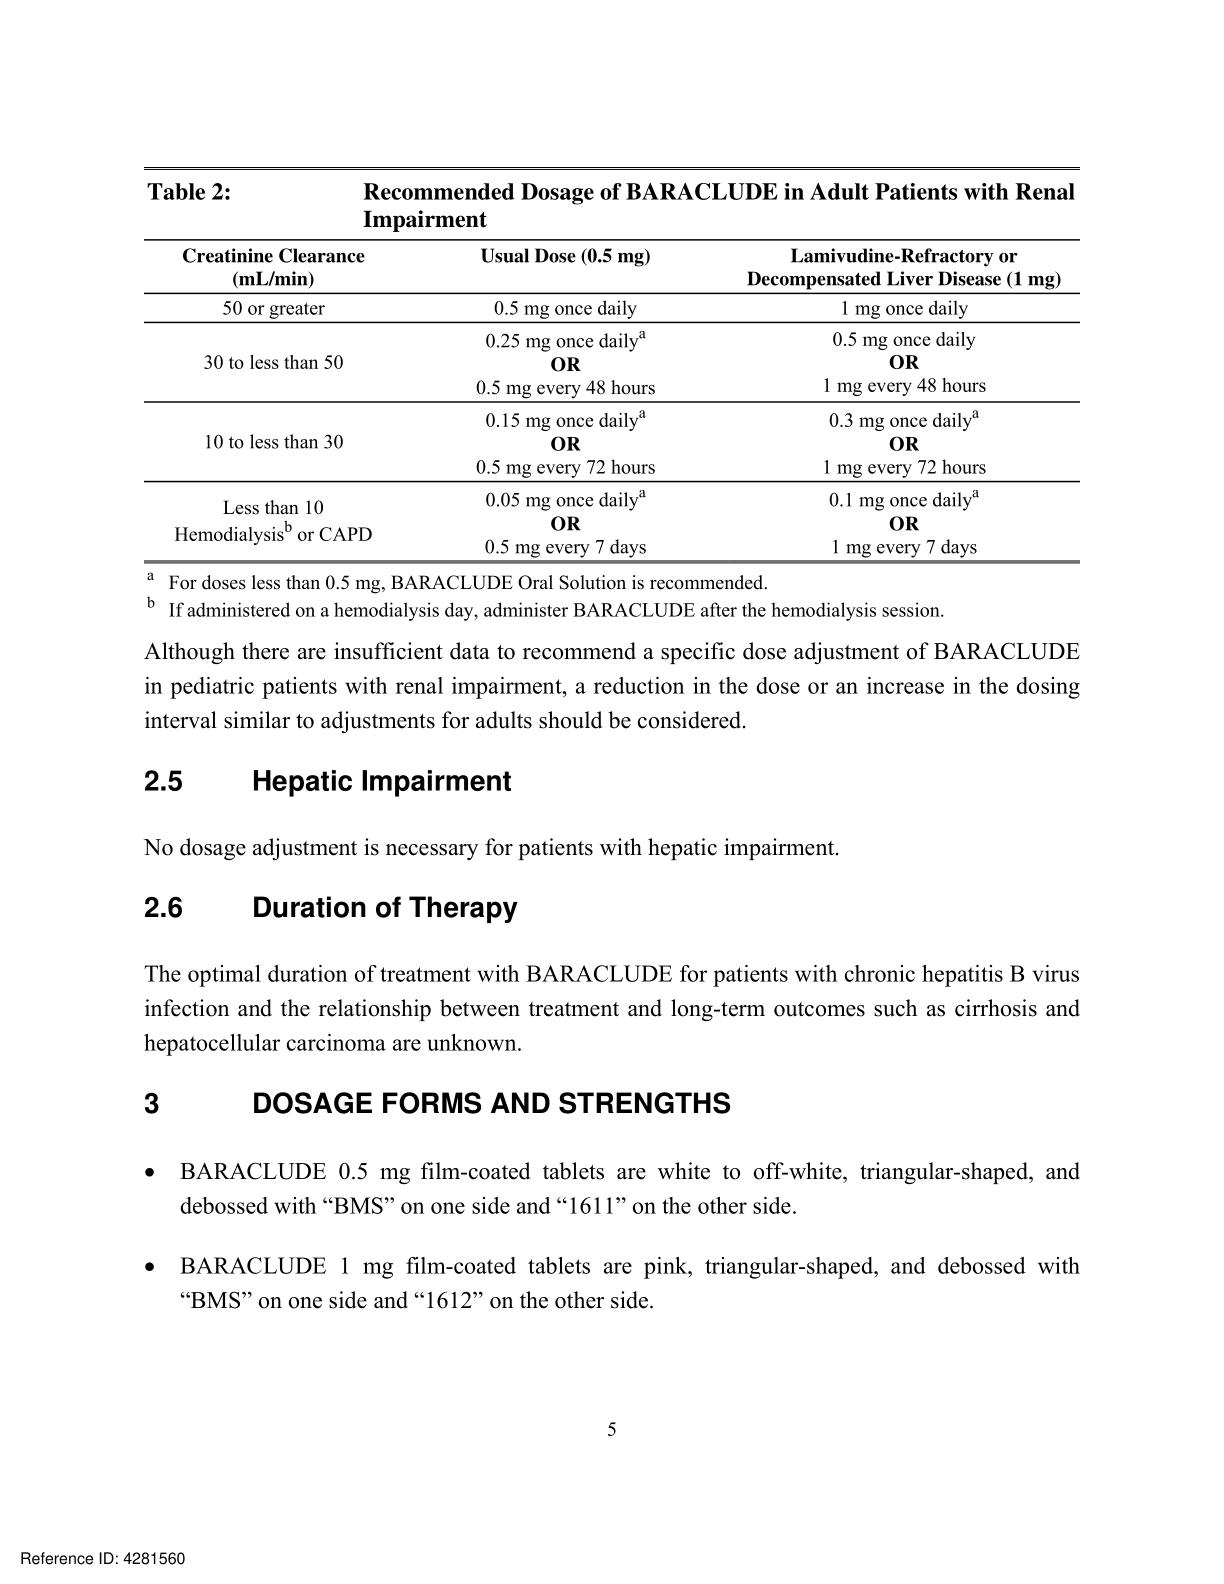partial_lined_merged_cells: (141, 165, 1083, 566)
